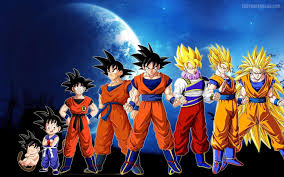Songoku: (174, 51, 205, 75), (139, 52, 166, 78), (245, 57, 272, 82), (209, 49, 233, 75), (19, 134, 43, 157), (102, 59, 125, 83), (67, 74, 90, 97), (41, 113, 62, 137)
